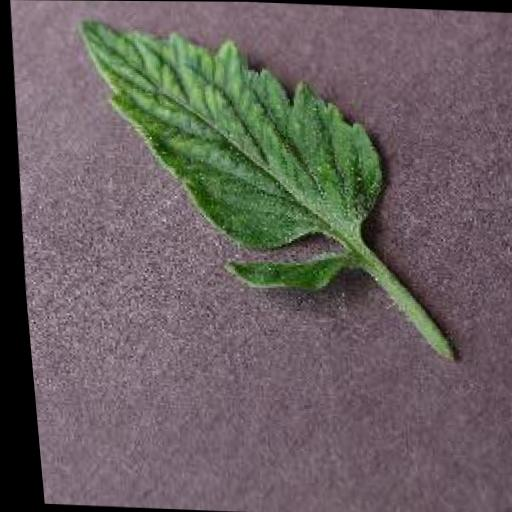Mosaic Virus: (62, 14, 392, 297)
